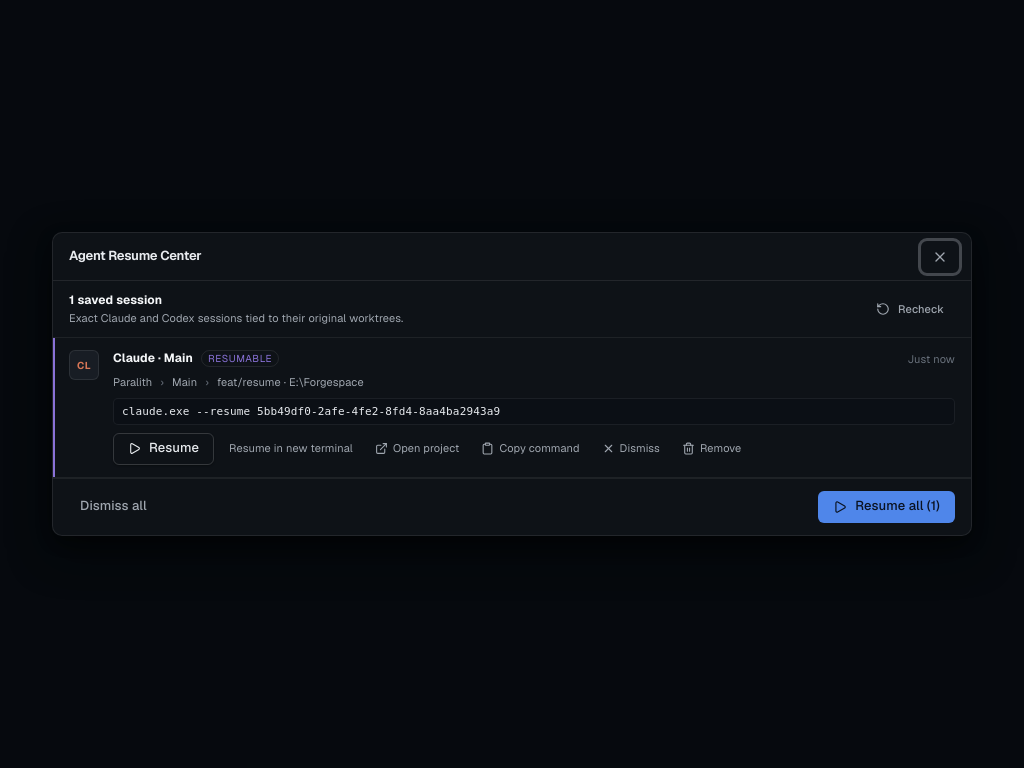
Test case: AgentResumeCenter › opens after startup for a recoverable exact session and persists dismissal
Expected: the dialog "Agent Resume Center" is shown, [52,232,972,536]
What coordinates should you click on to do the following:
click the button "Dismiss"
I would click on:
 (631, 449)
Its box is [595,437,667,461].
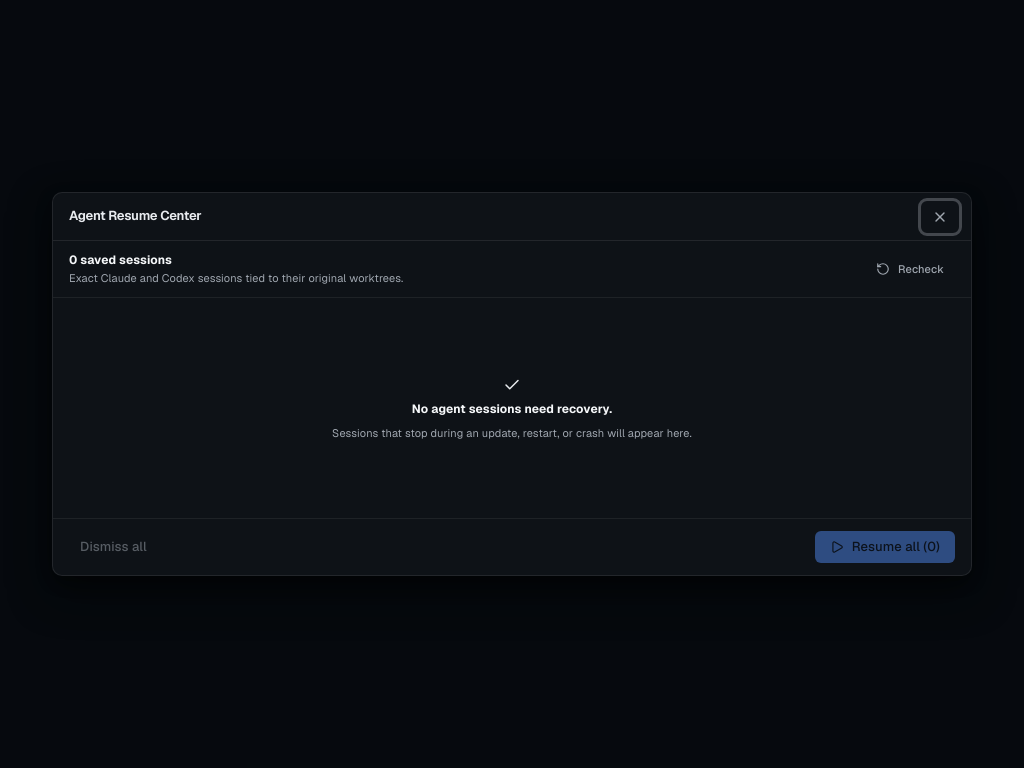
Expected: the text "No agent sessions need recovery." is shown, [412,402,612,418]
